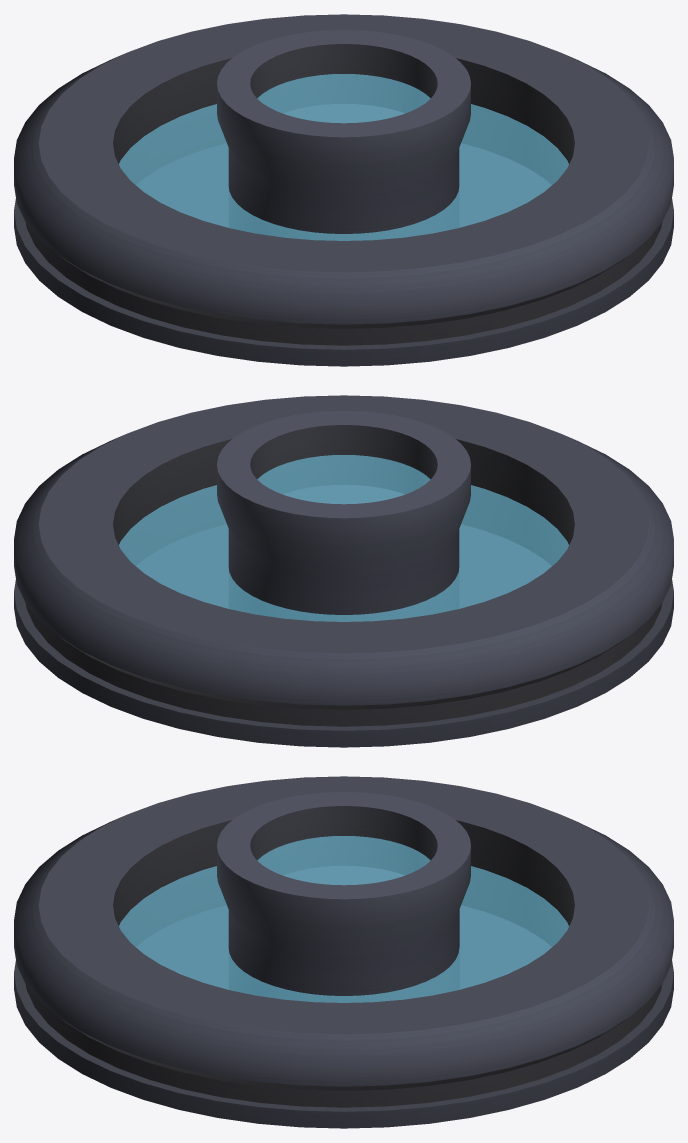
Rendered from fountain-round-detail.glb.
3 views of the same model, one above another, from view 1: azimuth 30°, elevation 25°; view 2: azimuth 150°, elevation 25°; view 3: azimuth 270°, elevation 25° (orthographic).
Visible parts, largest first — view 1: fountain-round-detail, (_ignore); view 2: fountain-round-detail, (_ignore); view 3: fountain-round-detail, (_ignore).
Boxes of the visible parts, x1,y1,x2,y2 form: fountain-round-detail: (14,14,673,366); (_ignore): (119,74,568,240); fountain-round-detail: (14,395,673,747); (_ignore): (119,455,568,621); fountain-round-detail: (14,776,673,1128); (_ignore): (119,836,568,1002).
Bounding box in the file's own units: 2 × 0.48 × 2.
2 materials, 1 textured.
